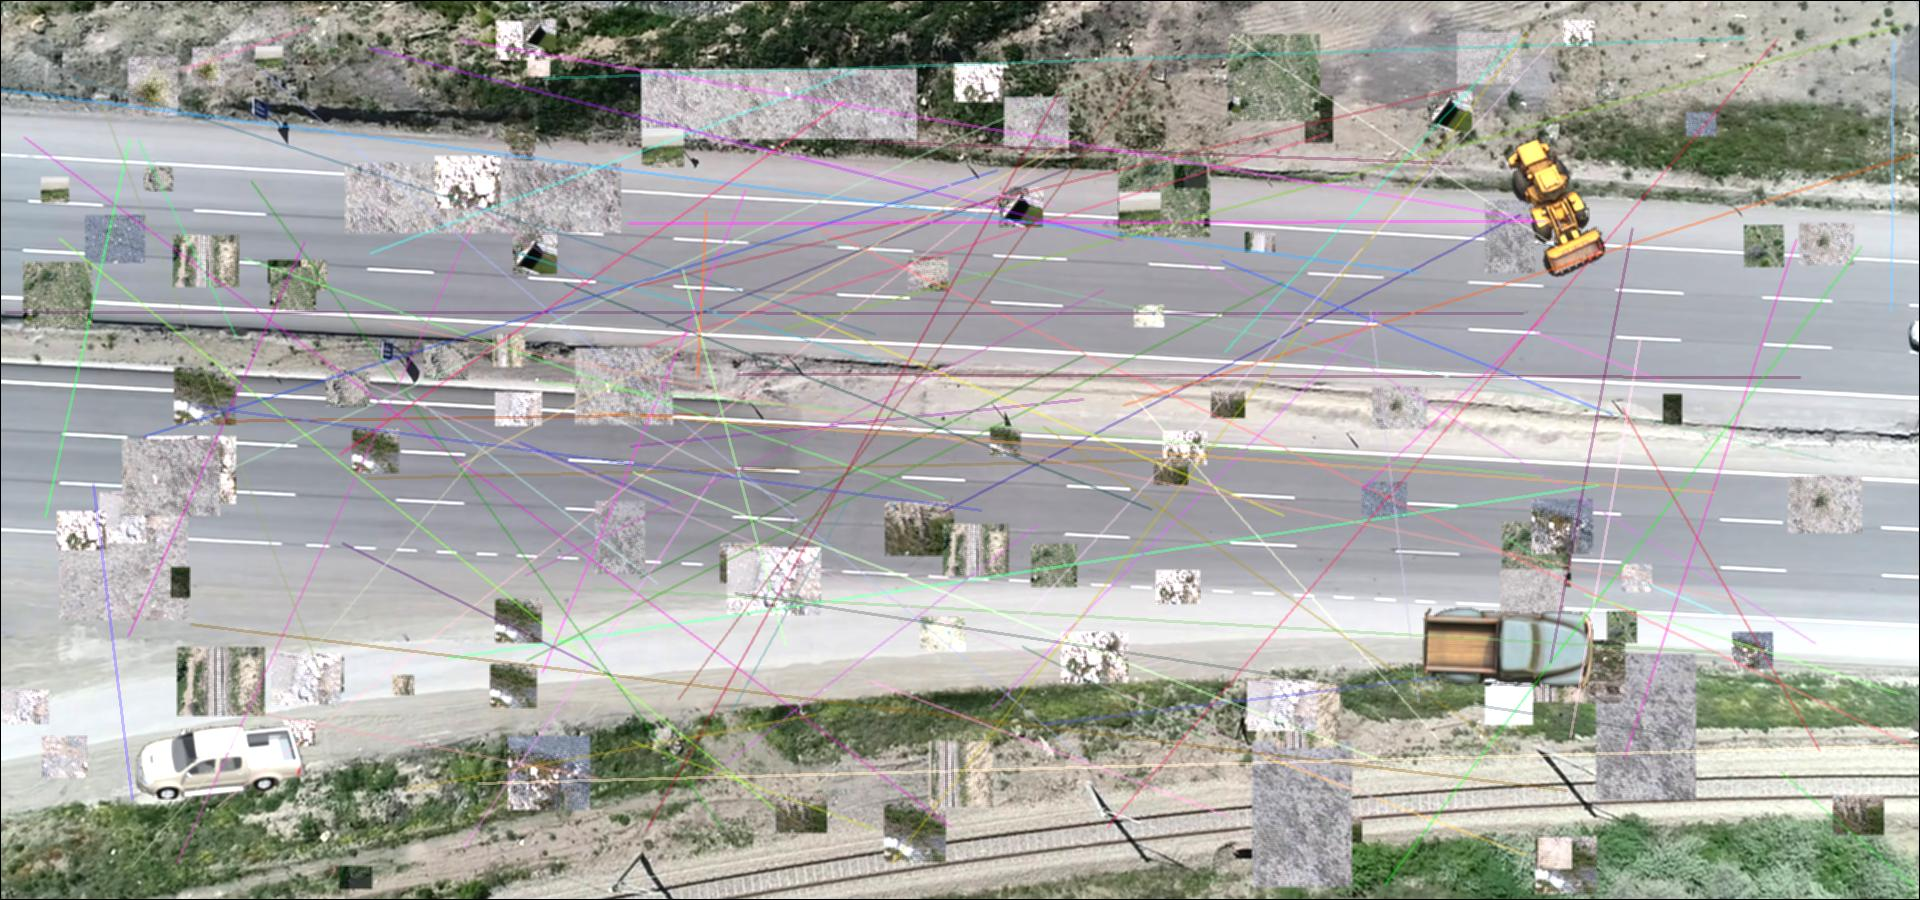arac: (1420, 601, 1596, 696), (1496, 138, 1614, 277), (136, 718, 309, 800)
